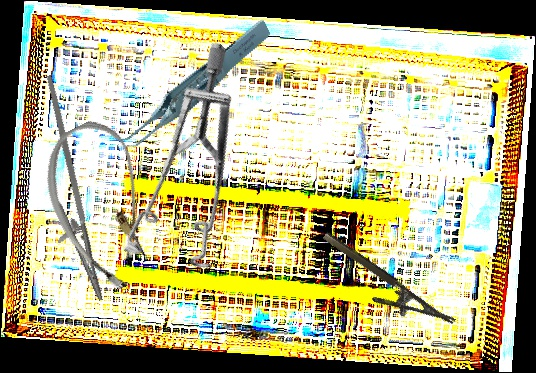Cannula: (25, 110, 183, 301)
Needle Holder: (1, 74, 132, 308), (309, 230, 457, 346)
Speculum: (61, 39, 328, 303)
Tissue Forceps: (94, 17, 289, 154)
